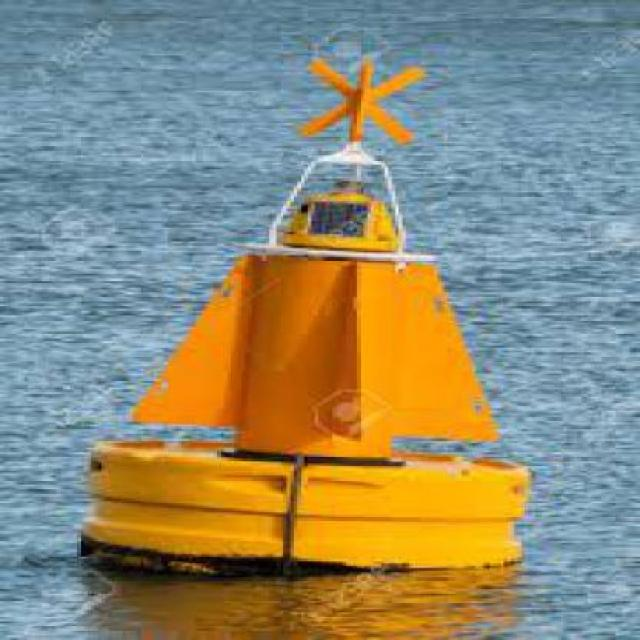buoy: (50, 52, 557, 567)
